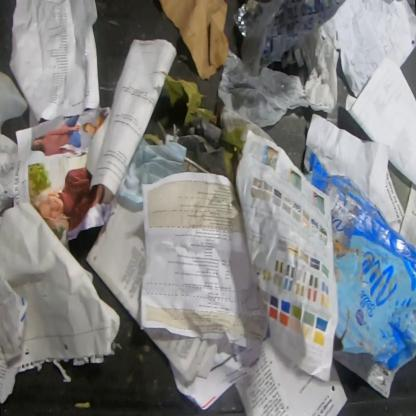cardboard: (301, 146, 415, 375)
soft_plastic: (217, 0, 346, 129), (0, 73, 27, 130)
